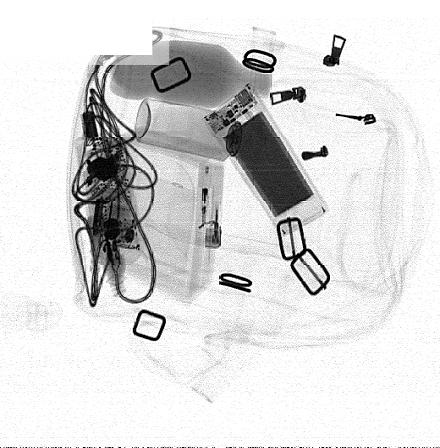Lighter: (196, 162, 225, 249)
Powerbank: (202, 82, 330, 237)
Sprayer: (135, 98, 257, 167)
